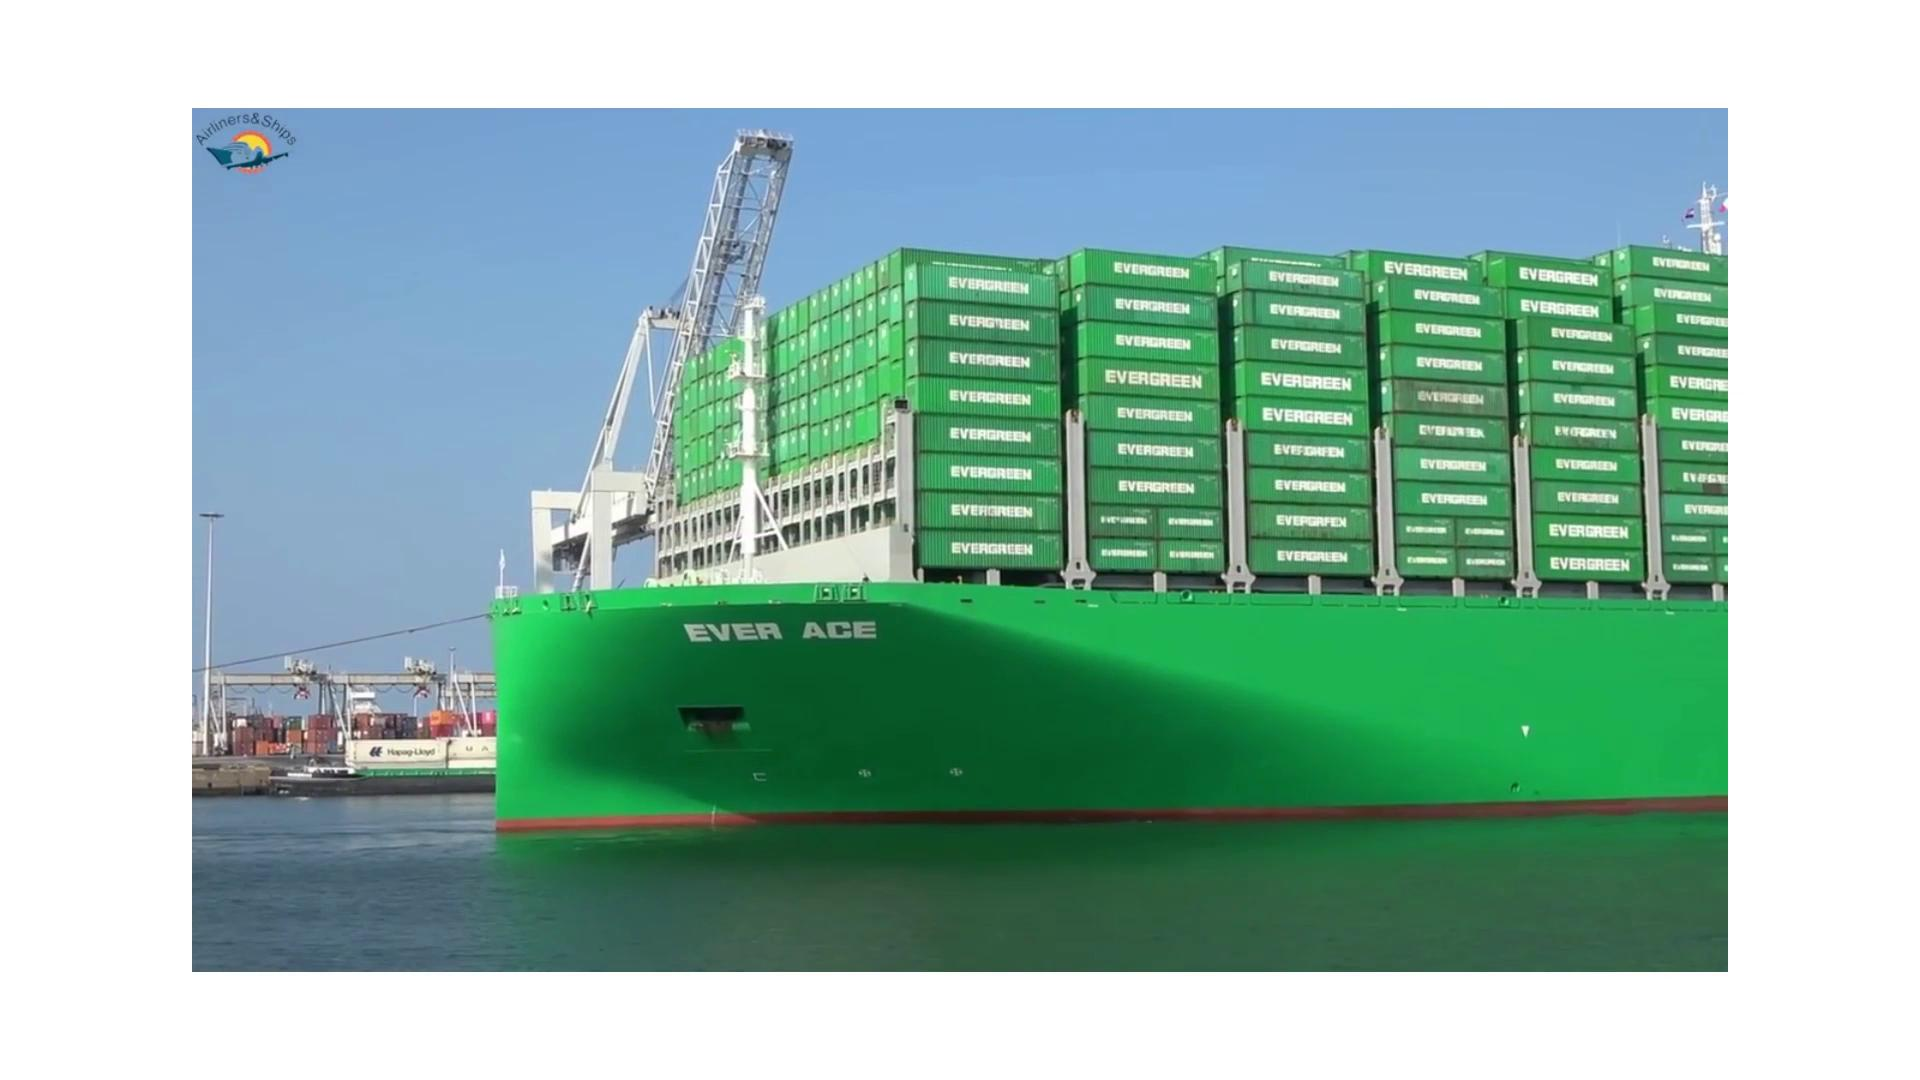OCR: (673, 607, 886, 665)
